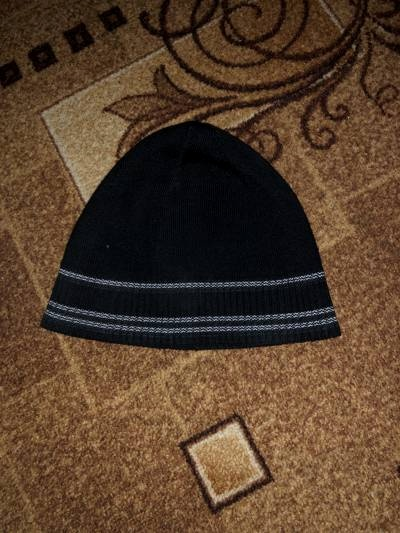Hat: (38, 100, 352, 369)
